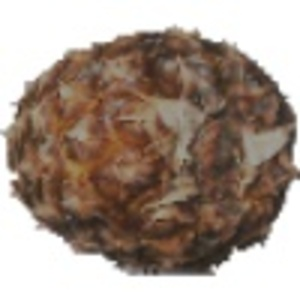abacaxi: (2, 31, 294, 266)
